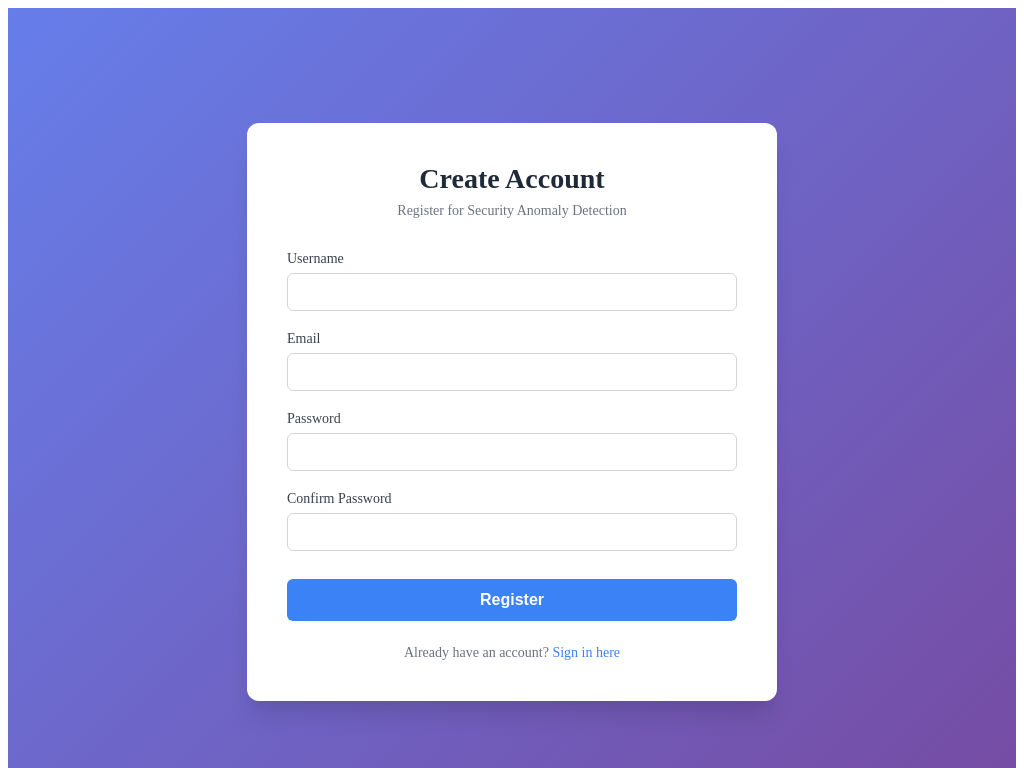
Test: Register Component › should show error when password is too short
Type "newuser" into the field labelled "Username" at [512, 292], box [287,273,737,311]
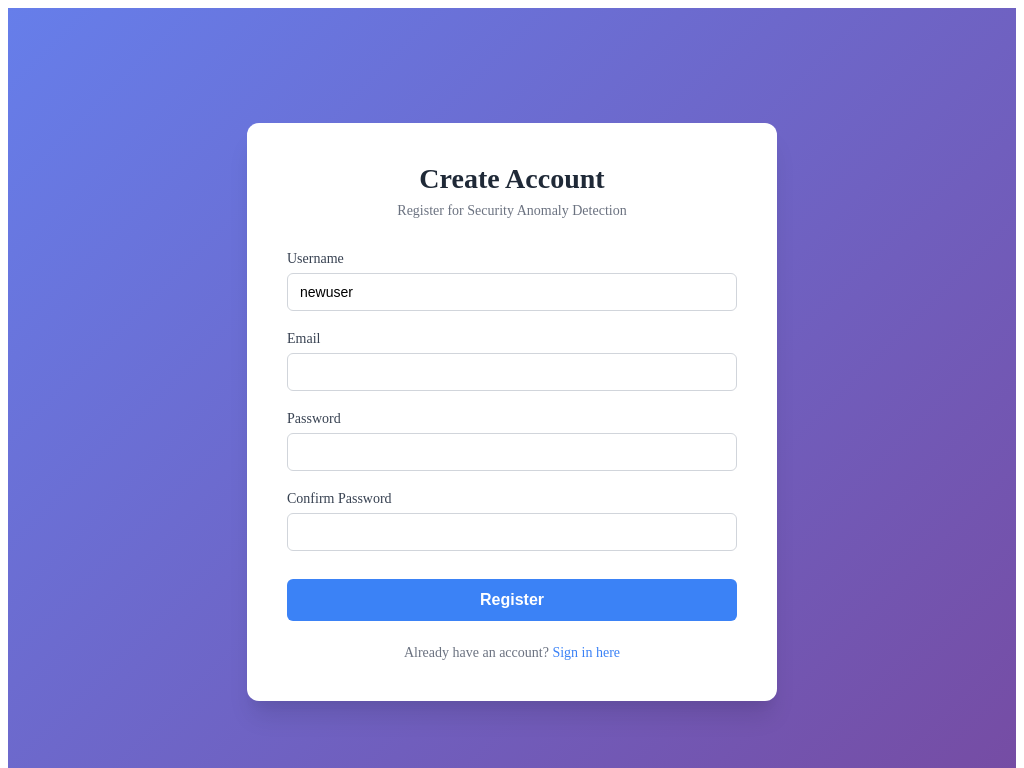
Type "test@example.com" into the field labelled "Email" at [512, 372], box [287,353,737,391]
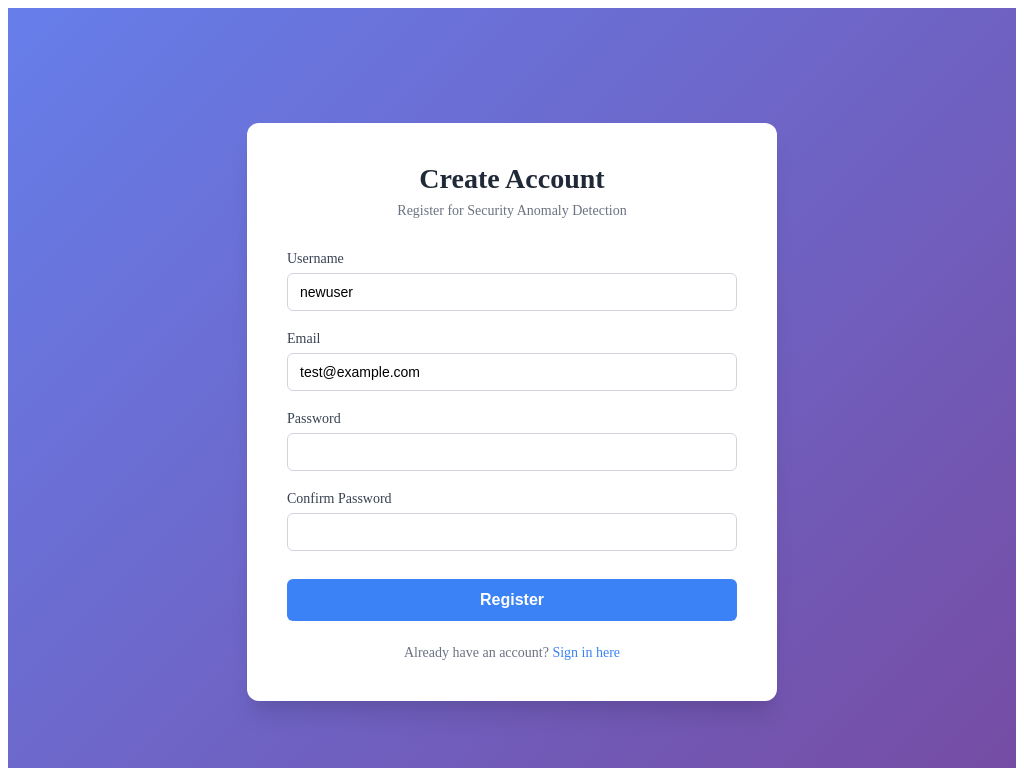
Type "12345" into the password field labelled "Password" at [512, 452], box [287,433,737,471]
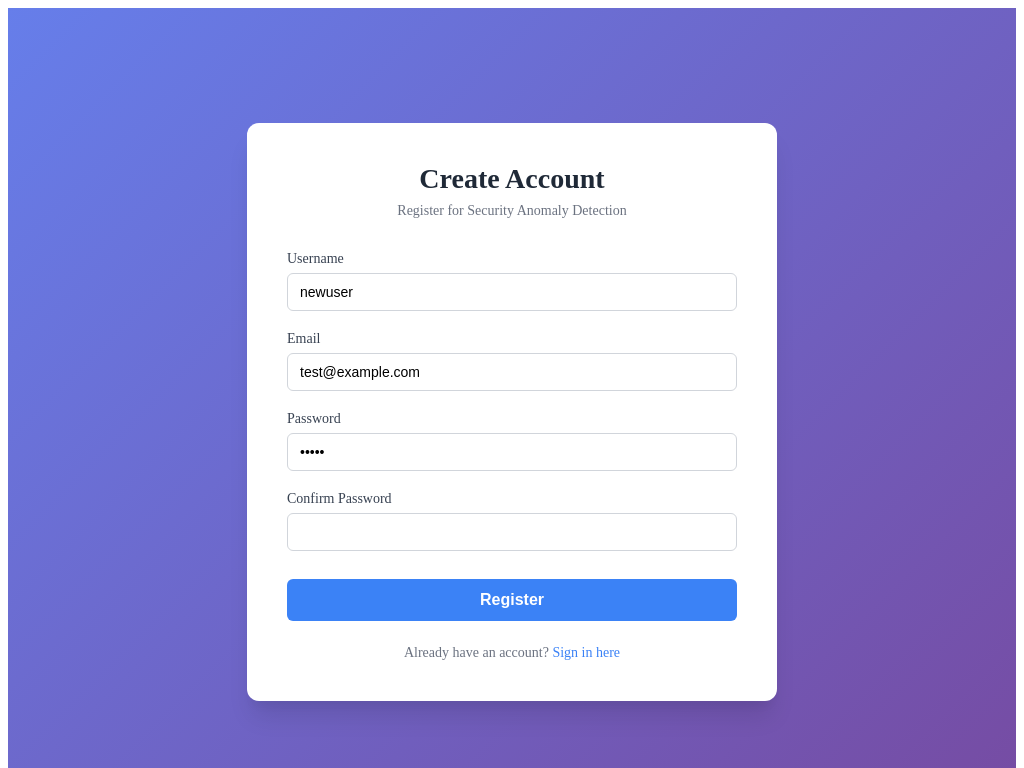
Type "12345" into the password field labelled "Confirm Password" at [512, 532], box [287,513,737,551]
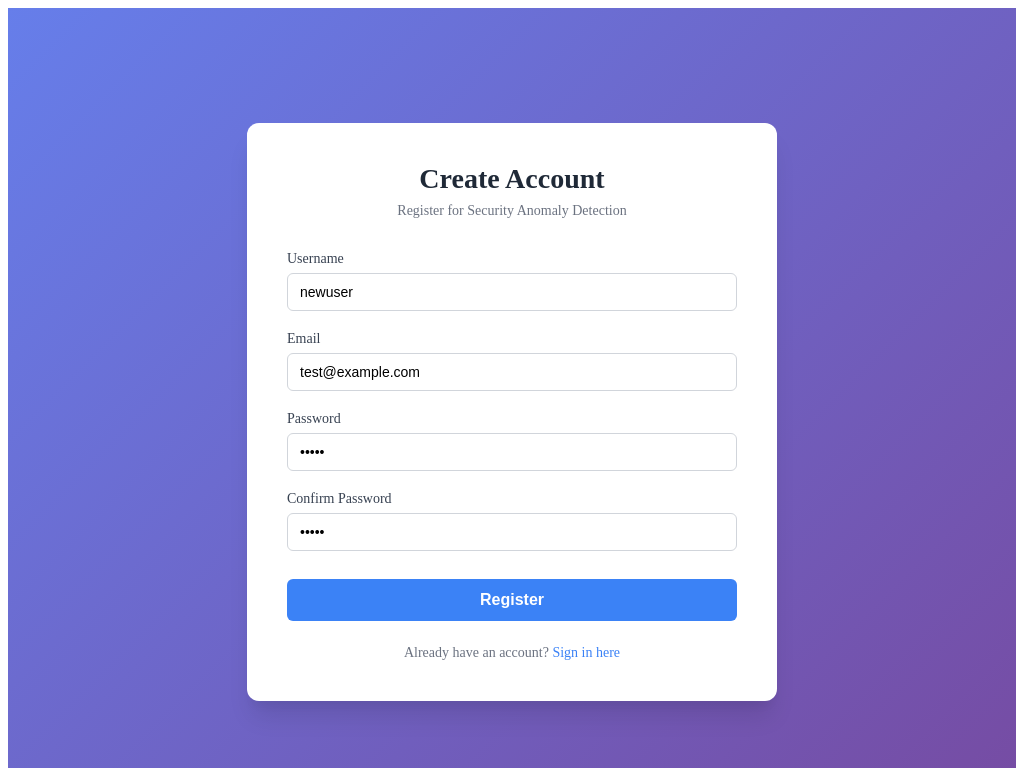
Click the button "Register" at [512, 600], box [287,579,737,621]
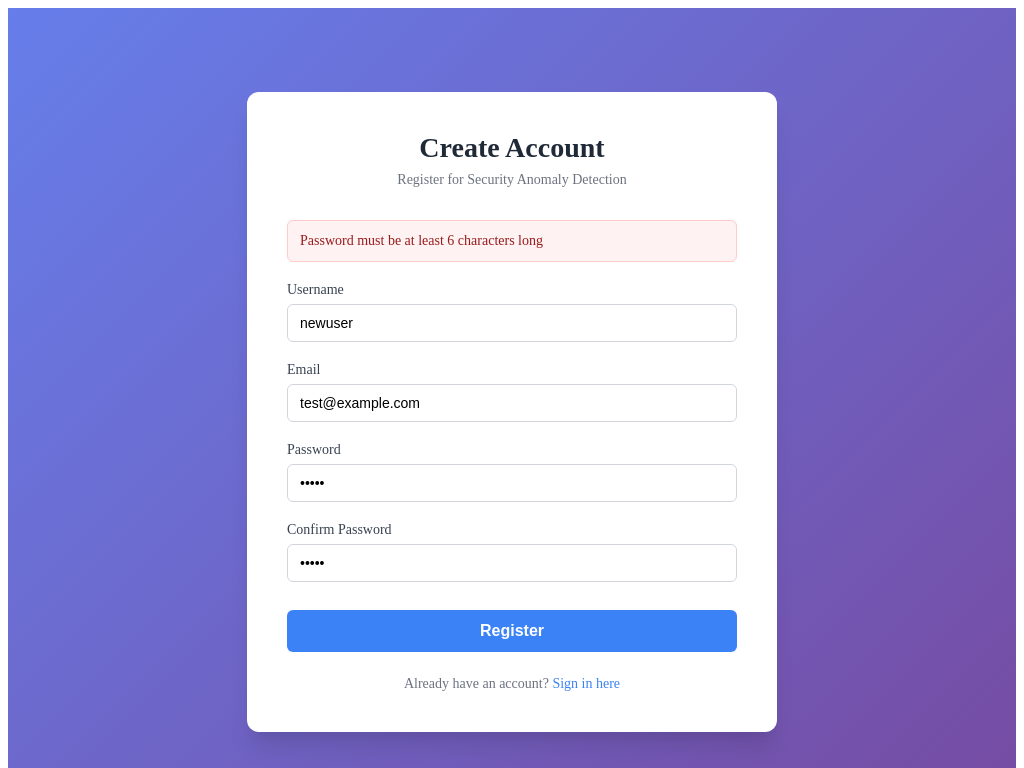
Expected: the text "Password must be at least 6 characters long" is shown, [287,220,737,262]
